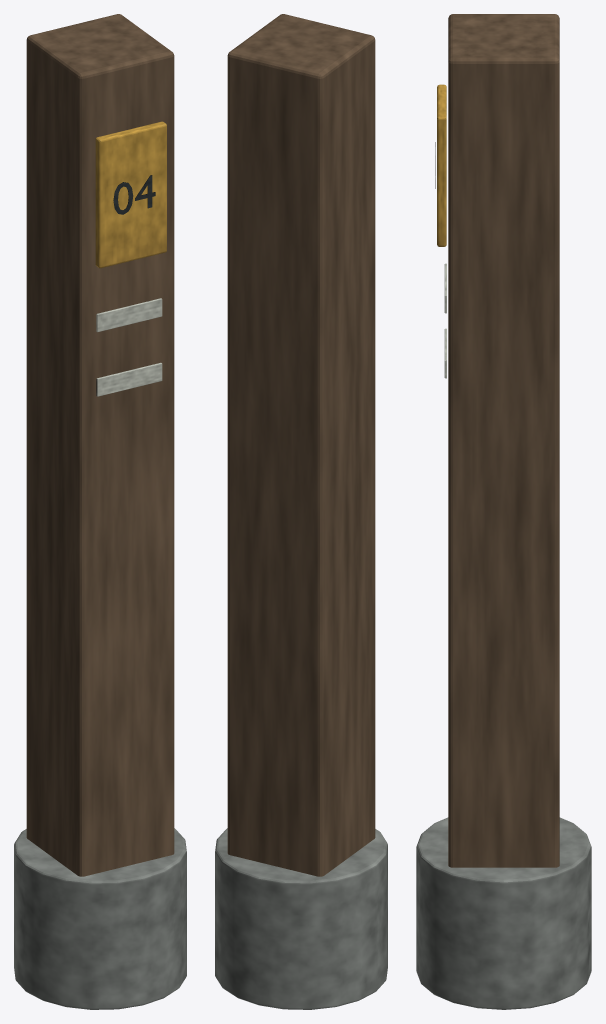
Rendered from GR_TrailMarker_03.glb.
3 renders of one model, left to right at view 1: azimuth 30°, elevation 25°; view 2: azimuth 150°, elevation 25°; view 3: azimuth 270°, elevation 25°, orthographic.
Visible parts, largest first — view 1: Static; view 2: Static; view 3: Static.
Part boxes in pixels (x1,y1,x2,y2): Static: (14,14,186,1009); Static: (215,14,387,1009); Static: (416,14,591,1009).
Size of the model in its own units: 0.22 by 1.3 by 0.22.
1 material, 1 textured.
